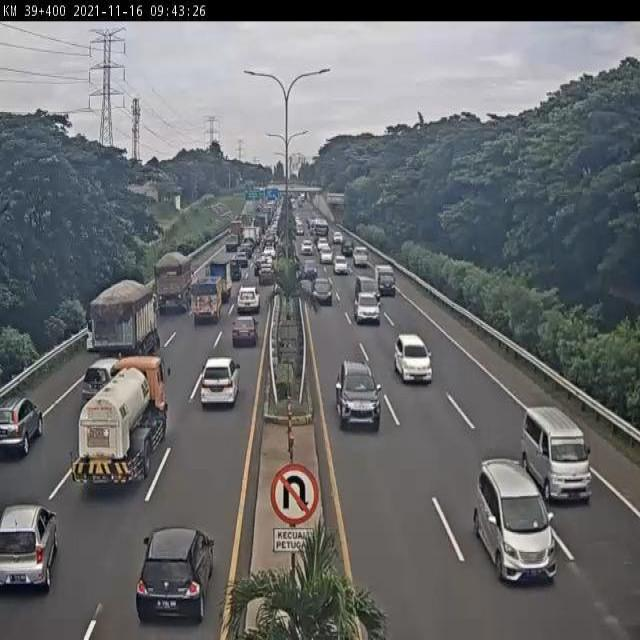car: (466, 462, 565, 594), (133, 519, 225, 632), (517, 400, 606, 513), (0, 497, 68, 603), (332, 355, 386, 436), (0, 380, 42, 473), (193, 350, 243, 422), (389, 328, 442, 392), (72, 346, 125, 410), (226, 313, 262, 355), (228, 286, 270, 318), (352, 289, 383, 327), (76, 321, 101, 363), (311, 274, 338, 310), (350, 273, 379, 303), (254, 258, 279, 290), (302, 253, 323, 283), (350, 244, 373, 268), (329, 248, 350, 273)
small truck: (190, 272, 226, 328), (205, 257, 235, 307), (370, 262, 399, 298)
truck-m-: (70, 349, 171, 496), (87, 282, 163, 374), (152, 249, 197, 316)
